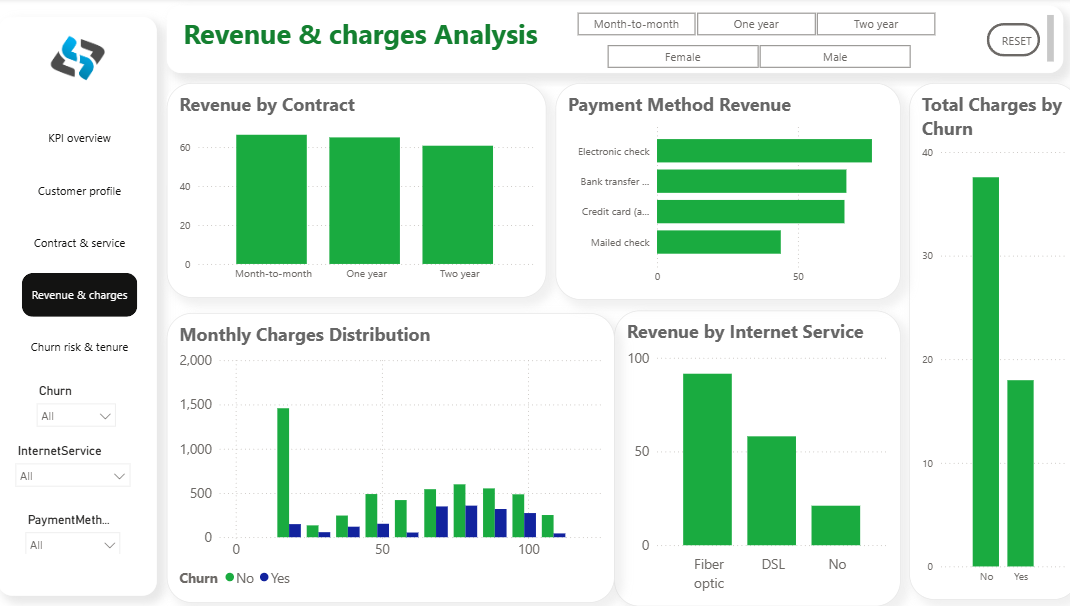

What the dashboard file says about the page in this screenshot:
{"tool":"powerbi","page":{"name":" Revenue & charges  ","canvas":[1280,720],"ordinal":3},"visuals":[{"type":"textbox","box":[0,22.2,188,685.3],"z":0},{"type":"textbox","box":[199.8,8.9,1061.2,79.9],"z":1000},{"type":"textbox","box":[199.8,105.1,1061.2,131.7],"z":2000},{"type":"image","box":[35.5,28.1,116.9,79.9],"z":3000},{"type":"pageNavigator","box":[28.8,138.6,137,303],"z":4000},{"type":"clusteredColumnChart","title":"Revenue by Contract","fields":{"Category":["Telco_Customer_Churn_Dataset  (2).Contract"],"Y":["Telco_Customer_Churn_Dataset  (2).Average Monthly Charge"]},"box":[199.5,100.4,449.9,254.1],"z":5000},{"type":"clusteredColumnChart","title":"Revenue by Internet Service","fields":{"Category":["Telco_Customer_Churn_Dataset  (2).InternetService"],"Y":["Telco_Customer_Churn_Dataset  (2).Average Monthly Charge"]},"box":[730,369.3,339.6,350.7],"z":6000},{"type":"clusteredColumnChart","title":"Total Charges by Churn","fields":{"Category":["Telco_Customer_Churn_Dataset  (2).Churn"],"Y":["Telco_Customer_Churn_Dataset  (2).Average Tenure"]},"box":[1079.5,100.4,200.8,612.2],"z":7000},{"type":"clusteredColumnChart","title":"Monthly Charges Distribution","fields":{"Category":["Telco_Customer_Churn_Dataset  (2).MonthlyCharges (bins)"],"Y":["CountNonNull(Telco_Customer_Churn_Dataset  (2).customerID)"],"Series":["Telco_Customer_Churn_Dataset  (2).Churn"]},"box":[199.5,373,530.4,343.3],"z":8000},{"type":"clusteredBarChart","title":"Payment Method Revenue","fields":{"Category":["Telco_Customer_Churn_Dataset  (2).PaymentMethod"],"Y":["Telco_Customer_Churn_Dataset  (2).Average Monthly Charge"]},"box":[660.6,100.4,409,256.5],"z":9000},{"type":"slicer","fields":{"Values":["Telco_Customer_Churn_Dataset  (2).gender"]},"box":[695.3,48.3,409,38.4],"z":10000},{"type":"slicer","fields":{"Values":["Telco_Customer_Churn_Dataset  (2).Contract"]},"box":[660.6,9.9,473.4,38.4],"z":11000},{"type":"slicer","fields":{"Values":["Telco_Customer_Churn_Dataset  (2).Churn"]},"box":[35.9,451.1,114,70.6],"z":12000},{"type":"slicer","fields":{"Values":["Telco_Customer_Churn_Dataset  (2).InternetService"]},"box":[9.9,521.8,156.2,70.6],"z":13000},{"type":"slicer","fields":{"Values":["Telco_Customer_Churn_Dataset  (2).PaymentMethod"]},"box":[22.3,603.6,132.6,54.5],"z":14000},{"type":"actionButton","box":[1171.2,29.7,63.2,39.7],"z":15000}]}

Visuals, with their boxes on the page's 1280x720 design canvas (x1, y1, x2, y2). These are canvas units, not pixel positions in the 1070x606 screenshot, which may show the page scaled, cropped or inside an application window:
textbox: crop(0, 22, 188, 708)
textbox: crop(200, 9, 1261, 89)
textbox: crop(200, 105, 1261, 237)
image: crop(36, 28, 152, 108)
pageNavigator: crop(29, 139, 166, 442)
"Revenue by Contract" clusteredColumnChart: crop(200, 100, 649, 354)
"Revenue by Internet Service" clusteredColumnChart: crop(730, 369, 1070, 720)
"Total Charges by Churn" clusteredColumnChart: crop(1080, 100, 1280, 713)
"Monthly Charges Distribution" clusteredColumnChart: crop(200, 373, 730, 716)
"Payment Method Revenue" clusteredBarChart: crop(661, 100, 1070, 357)
slicer - Telco_Customer_Churn_Dataset  (2).gender: crop(695, 48, 1104, 87)
slicer - Telco_Customer_Churn_Dataset  (2).Contract: crop(661, 10, 1134, 48)
slicer - Telco_Customer_Churn_Dataset  (2).Churn: crop(36, 451, 150, 522)
slicer - Telco_Customer_Churn_Dataset  (2).InternetService: crop(10, 522, 166, 592)
slicer - Telco_Customer_Churn_Dataset  (2).PaymentMethod: crop(22, 604, 155, 658)
actionButton: crop(1171, 30, 1234, 69)
